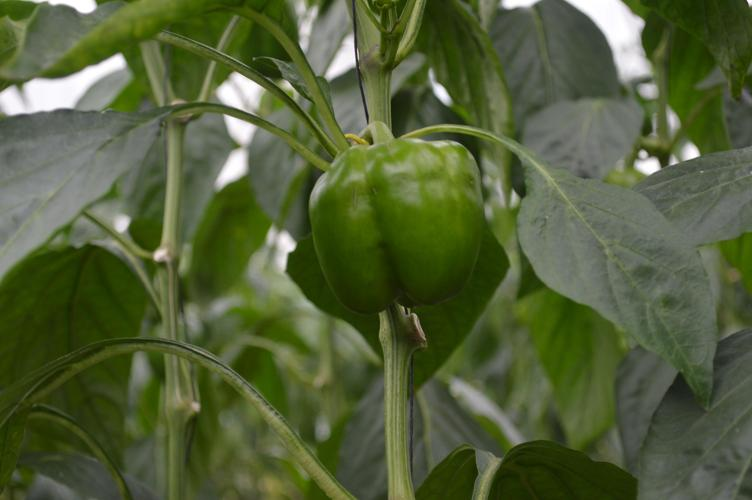BellPepper: (311, 143, 491, 311)
